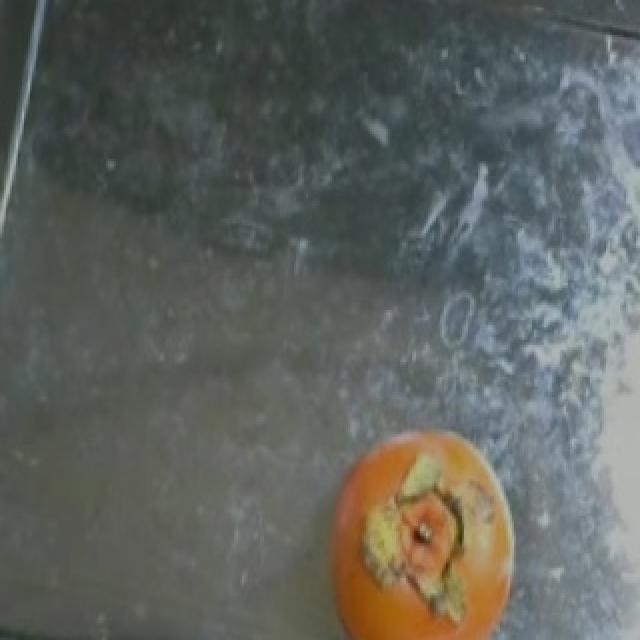Fruit: (300, 404, 536, 640)
